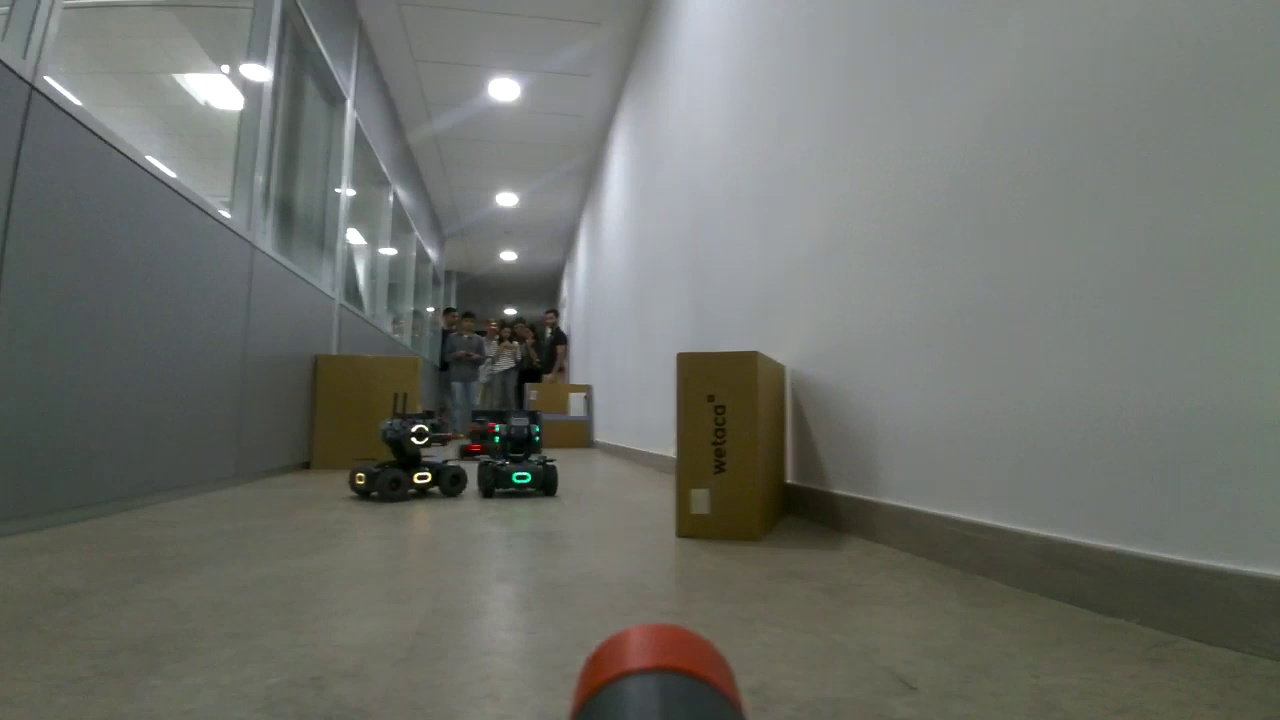robot: (346, 412, 469, 505), (476, 413, 560, 502)
